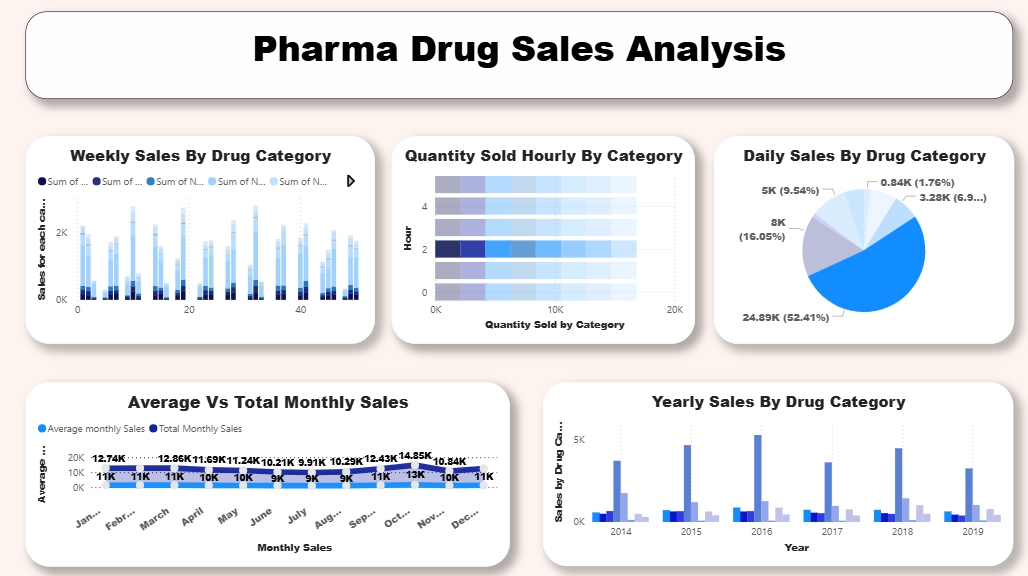

What the dashboard file says about the page in this screenshot:
{"tool":"powerbi","page":{"name":"Page 1","canvas":[1280,720],"ordinal":0},"visuals":[{"type":"textbox","box":[35.3,19.6,1219.6,107.8],"z":0},{"type":"columnChart","title":"Weekly Sales By Drug Category","fields":{"Category":["salesweekly.Week Num"],"Y":["Sum(salesweekly.M01AB)","Sum(salesweekly.M01AE)","Sum(salesweekly.N02BA)","Sum(salesweekly.N02BE)","Sum(salesweekly.N05B)","Sum(salesweekly.N05C)","Sum(salesweekly.R03)","Sum(salesweekly.R06)"]},"box":[35.3,174.5,431.4,256.9],"z":1000},{"type":"stackedAreaChart","title":"Average Vs Total Monthly Sales","fields":{"Category":["salesmonthly.Date.Variation.Date Hierarchy.Month"],"Y":["salesmonthly.Average monthly Sales","salesmonthly.Total Monthly Sales"]},"box":[36,478,598,228],"z":2000},{"type":"barChart","title":"Quantity Sold Hourly By Category","fields":{"Category":["saleshourly.Hour"],"Y":["CountNonNull(saleshourly.M01AB)","CountNonNull(saleshourly.N05B)","CountNonNull(saleshourly.R03)","CountNonNull(saleshourly.R06)","CountNonNull(saleshourly.N05C)","CountNonNull(saleshourly.N02BE)","CountNonNull(saleshourly.N02BA)","CountNonNull(saleshourly.M01AE)"]},"box":[486.3,174.5,374.5,256.9],"z":3000},{"type":"pieChart","title":"Daily Sales By Drug Category","fields":{"Y":["CountNonNull(salesdaily.M01AB)","Sum(salesdaily.N02BA)","Sum(salesdaily.M01AE)","Sum(salesdaily.N02BE)","Sum(salesdaily.N05B)","Sum(salesdaily.N05C)","Sum(salesdaily.R03)","Sum(salesdaily.R06)"]},"box":[884.3,174.5,370.6,256.9],"z":4000},{"type":"lineClusteredColumnComboChart","title":"Yearly Sales By Drug Category","fields":{"Category":["salesdaily.Date.Variation.Date Hierarchy.Year"],"Y":["Sum(salesdaily.M01AB)","Sum(salesdaily.M01AE)","Sum(salesdaily.N02BA)","Sum(salesdaily.N02BE)","Sum(salesdaily.N05B)","Sum(salesdaily.N05C)","Sum(salesdaily.R03)","Sum(salesdaily.R06)"]},"box":[674.5,478.4,580.4,227.5],"z":5000}]}

Visuals, with their boxes in screenshot pixels (x1, y1, x2, y2), scaled from the page's 1280x720 canvas onto the 1028x576 screenshot:
textbox: 28, 16, 1008, 102
"Weekly Sales By Drug Category" columnChart: 28, 140, 375, 345
"Average Vs Total Monthly Sales" stackedAreaChart: 29, 382, 509, 565
"Quantity Sold Hourly By Category" barChart: 391, 140, 691, 345
"Daily Sales By Drug Category" pieChart: 710, 140, 1008, 345
"Yearly Sales By Drug Category" lineClusteredColumnComboChart: 542, 383, 1008, 565
